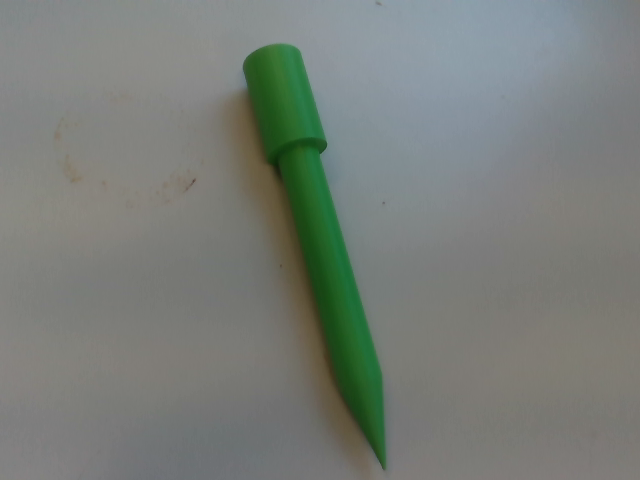Probe: (240, 36, 391, 478)
